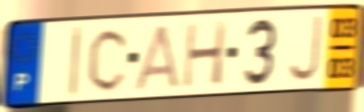3: (242, 16, 279, 88)
A: (133, 22, 182, 92)
C: (85, 25, 132, 94)
H: (180, 19, 229, 90)
I: (67, 23, 84, 99)
J: (285, 13, 324, 84)
